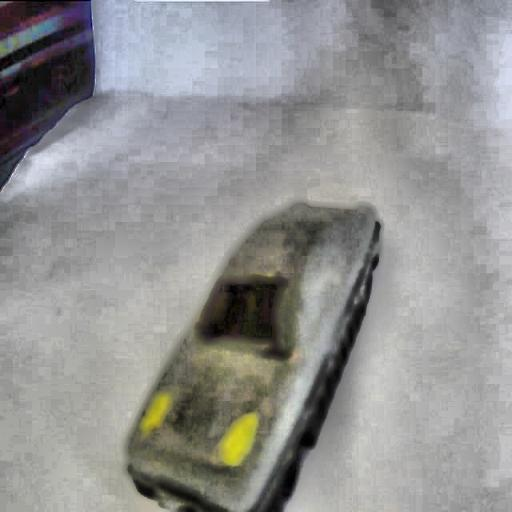normal_car: (120, 199, 381, 512)
